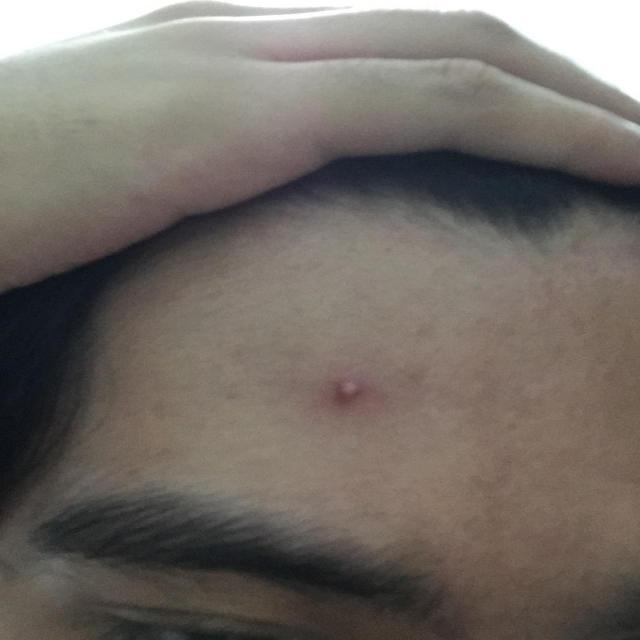blackheads: (320, 368, 378, 413)
